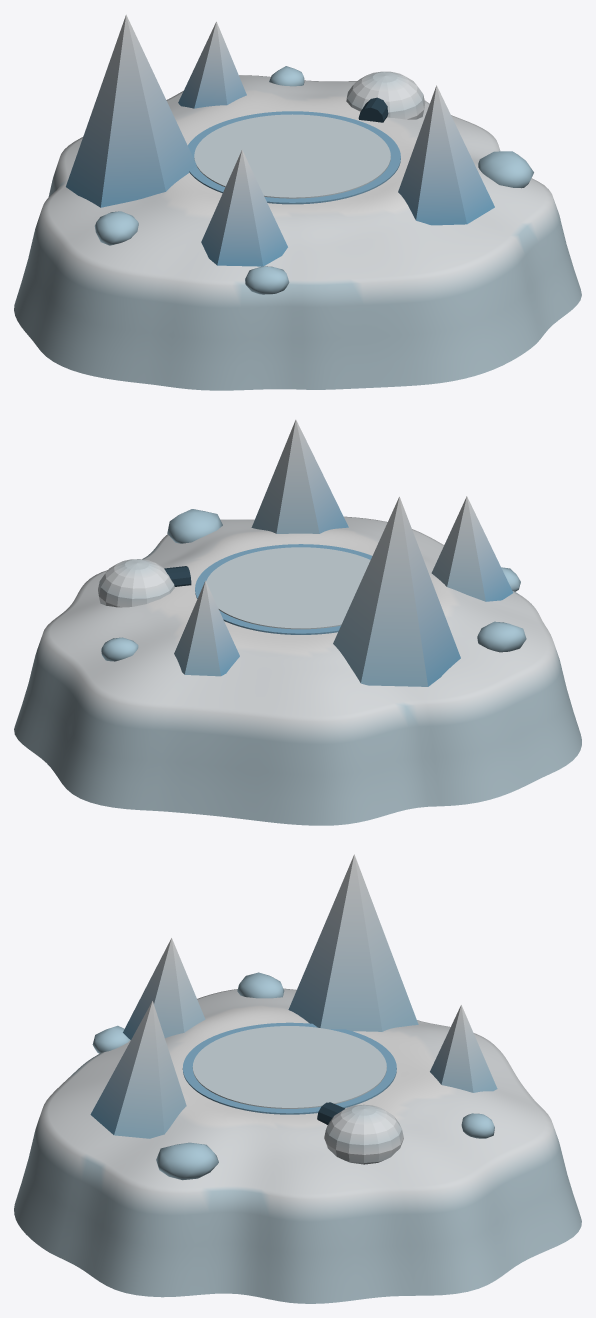
File: island_north.glb
3 views of the same model, one above another, from view 1: azimuth 30°, elevation 25°; view 2: azimuth 150°, elevation 25°; view 3: azimuth 270°, elevation 25° (orthographic). The views are drawn at different scales.
Visible parts, largest first — view 1: Island_North_Ice; view 2: Island_North_Ice; view 3: Island_North_Ice.
Boxes of the visible parts, bbox=[...] form: Island_North_Ice: bbox=[14, 14, 581, 390]; Island_North_Ice: bbox=[14, 419, 581, 825]; Island_North_Ice: bbox=[14, 854, 581, 1303].
Size of the model in its own units: 19.48 by 10.64 by 19.9.
